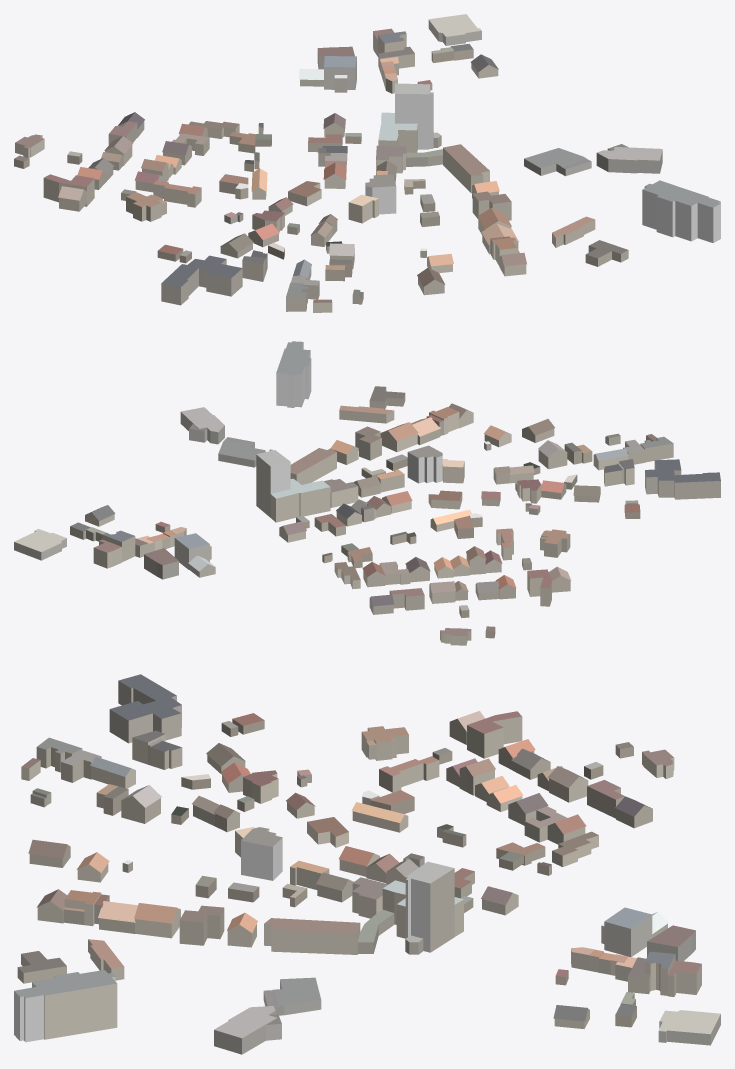
The picture shows the model from 3 angles, top to bottom: view 1: azimuth 30°, elevation 25°; view 2: azimuth 150°, elevation 25°; view 3: azimuth 270°, elevation 25°; orthographic projection. The views are drawn at different scales.
Parts seen in each view (by area): view 1: tuile; view 2: tuile; view 3: tuile.
Boxes of the visible parts, x1,y1,x2,y2 form: tuile: (14, 14, 720, 312); tuile: (14, 341, 720, 645); tuile: (14, 674, 720, 1054).
Bounding box in the file's own units: 287 × 32.85 × 260.
